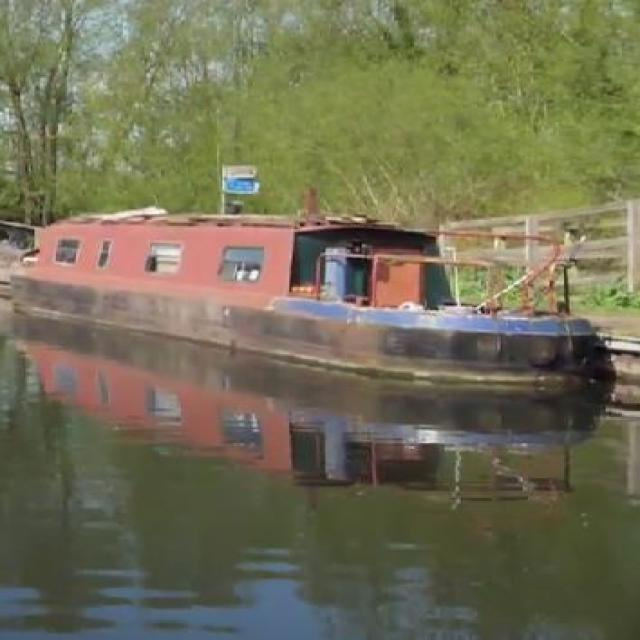boat: (33, 206, 609, 384)
